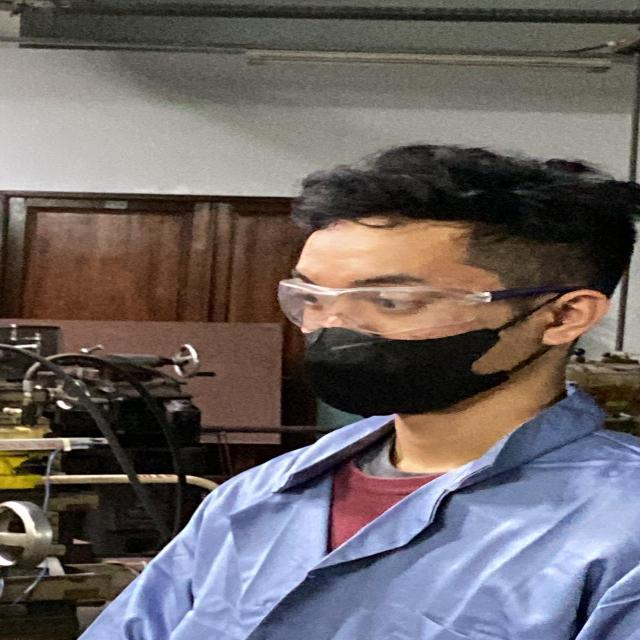glasses: (264, 270, 606, 334)
